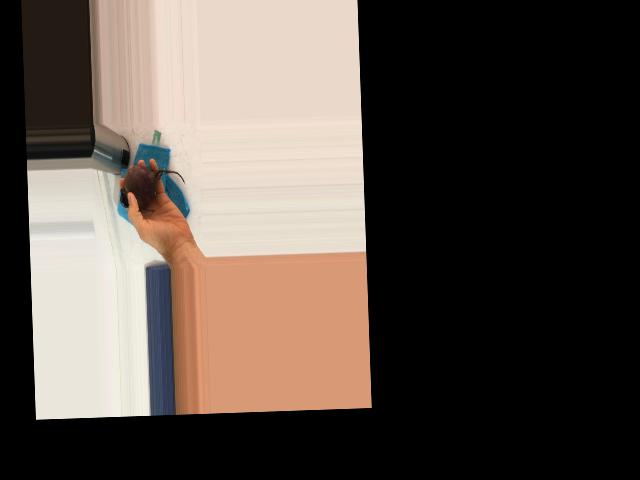beet: (119, 163, 186, 211)
